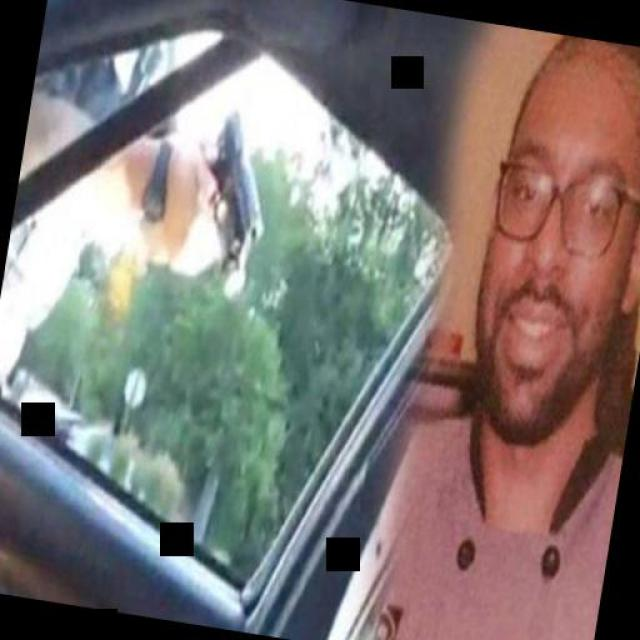gun: (182, 105, 280, 296)
